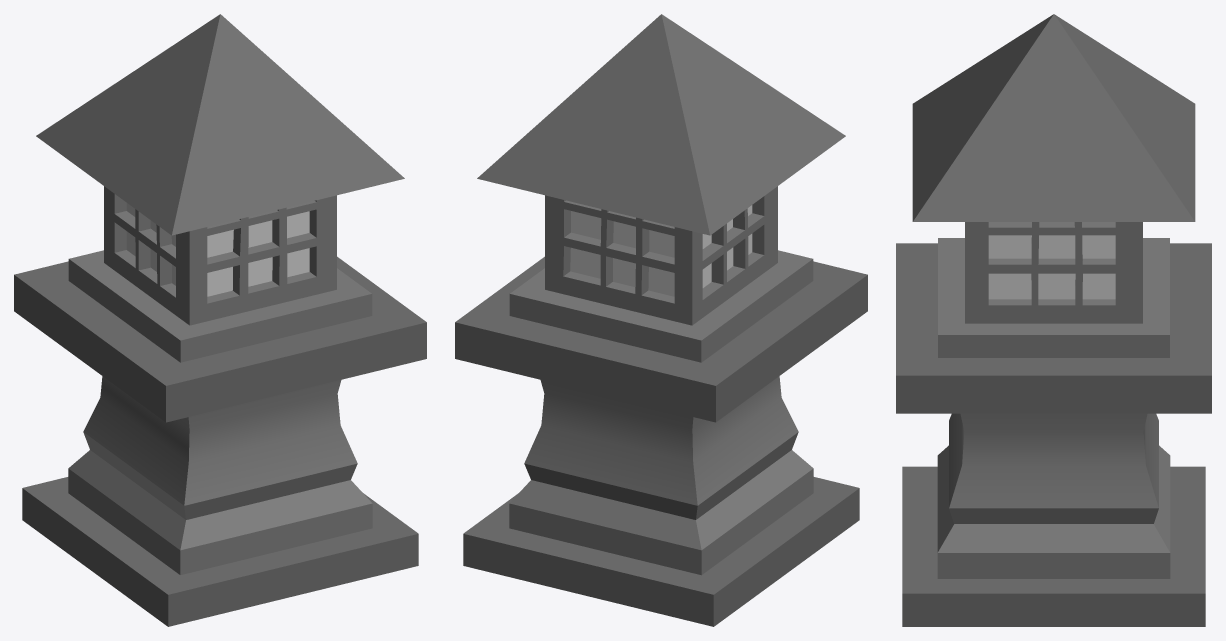
Rendered from lantern6.fbx.
3 views of the same model, side by side, from view 1: azimuth 30°, elevation 25°; view 2: azimuth 150°, elevation 25°; view 3: azimuth 270°, elevation 25° (orthographic). The views are drawn at different scales.
Visible parts, largest first — view 1: lantern6; view 2: lantern6; view 3: lantern6.
Boxes of the visible parts, x1,y1,x2,y2 form: lantern6: (14, 14, 426, 626); lantern6: (455, 14, 867, 626); lantern6: (896, 14, 1211, 626).
Size of the model in its own units: 108 by 209 by 109.
